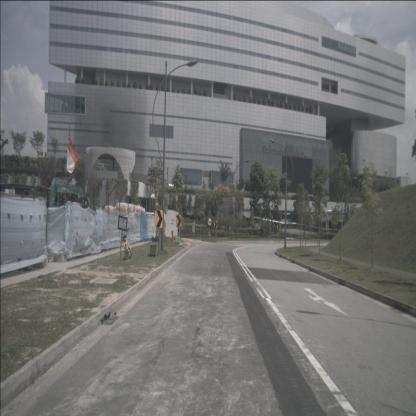vehicle-bicycle: (121, 227, 132, 260)
